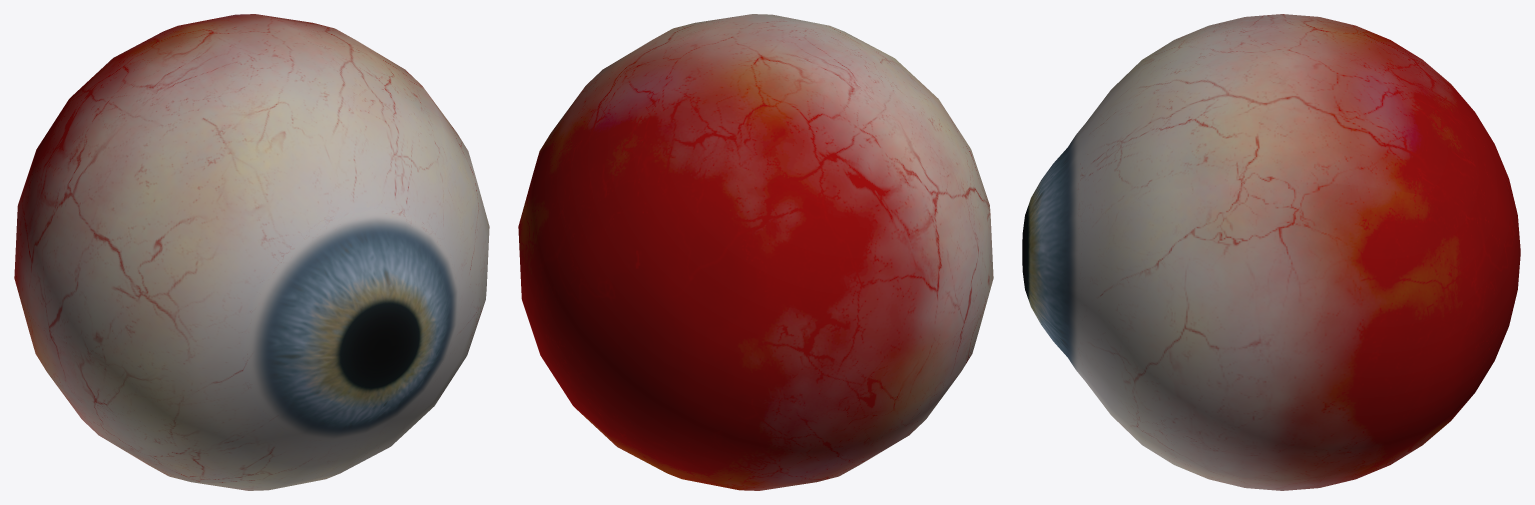
File: eye.glb
The picture shows the model from 3 angles, left to right: view 1: azimuth 30°, elevation 25°; view 2: azimuth 150°, elevation 25°; view 3: azimuth 270°, elevation 25°; orthographic projection.
Visible parts, largest first — view 1: eye_low.001; view 2: eye_low.001; view 3: eye_low.001.
Boxes of the visible parts, x1=… form: eye_low.001: x1=14, y1=14, x2=489, y2=490; eye_low.001: x1=518, y1=14, x2=993, y2=490; eye_low.001: x1=1022, y1=14, x2=1520, y2=490.
Size of the model in its own units: 0.0225 by 0.0225 by 0.0237.
1 material, 1 textured.
